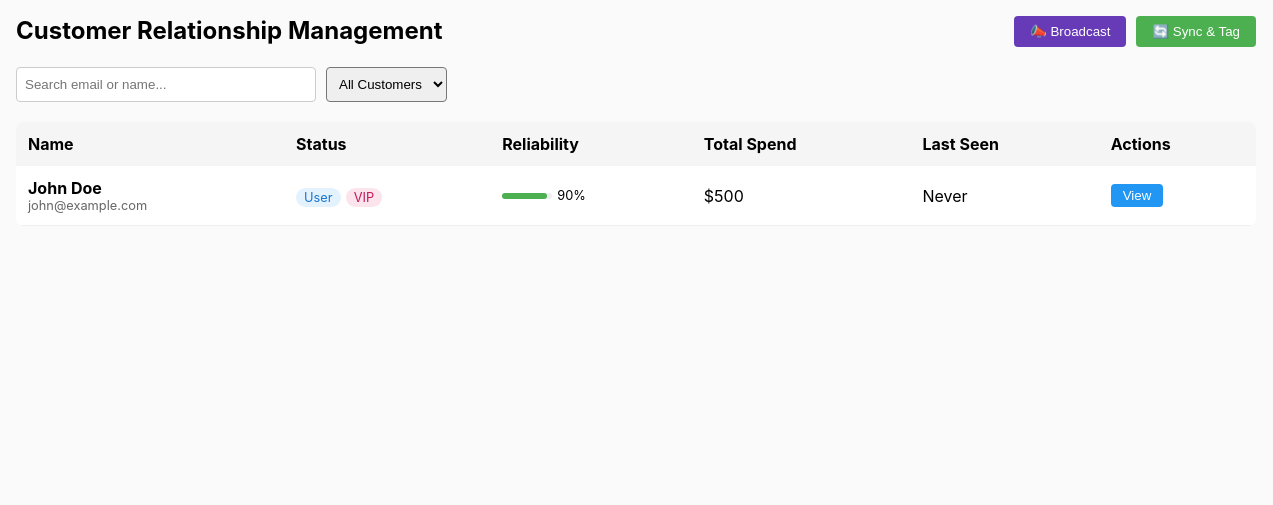
Test: CRM Component › switches to detail view on click
Click the button "View": [1137, 196] box [1111,184,1163,207]
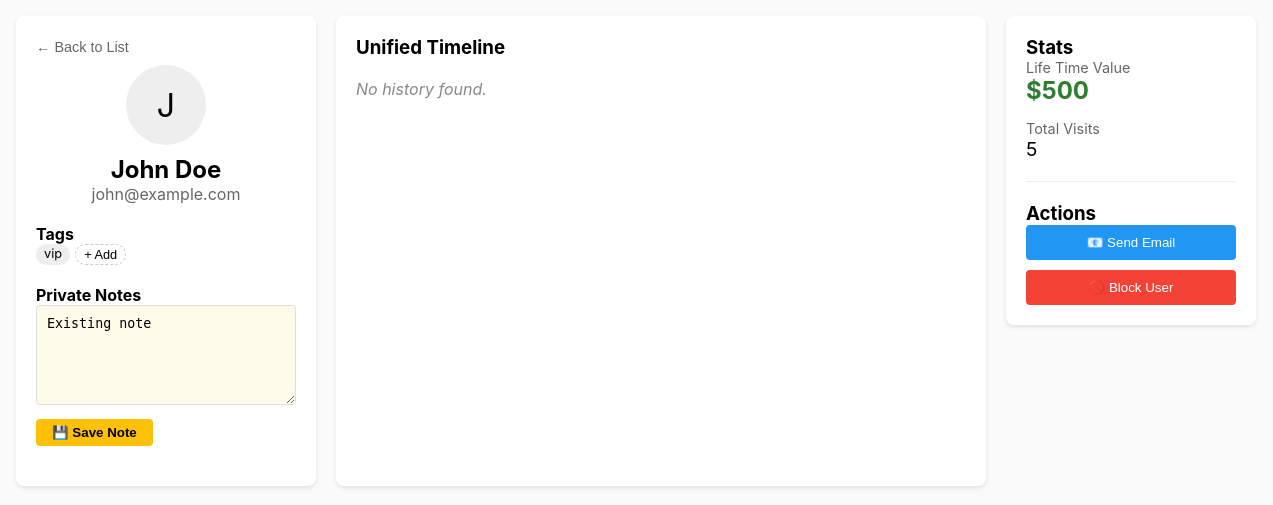
expect the heading "Unified Timeline" is shown: met, box [356,36,505,59]
expect the text "Life Time Value" is shown: met, box [1026,59,1130,76]
